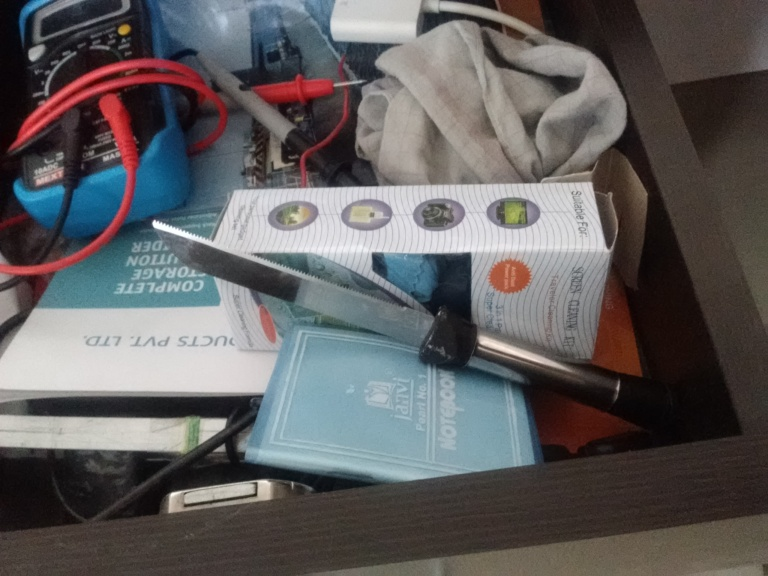knife: (150, 216, 682, 434)
